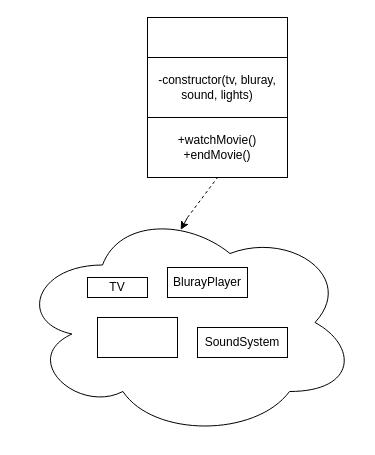
This 375x455 diagram has some shape labels left out. The shapes that lost their labels are listed below. From the top down, each one's centre as x and y in pixels, then its label:
At [217,37]: "HomeTheater".
At [137,337]: "Lights".
